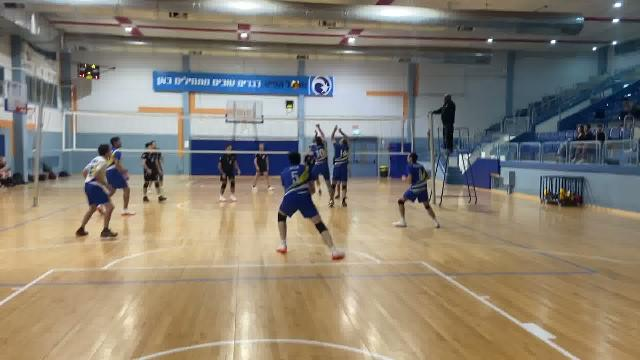ball: (289, 79, 300, 89)
